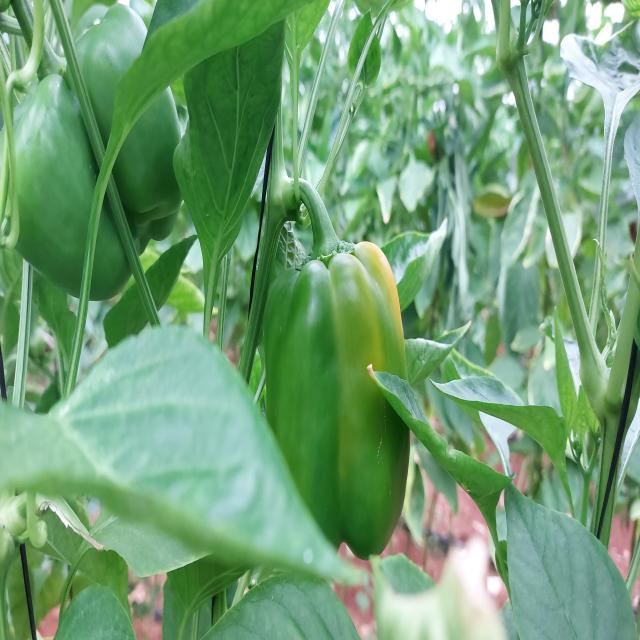Green--Not-ready-to-harvest: (14, 22, 183, 315), (262, 253, 414, 553)
